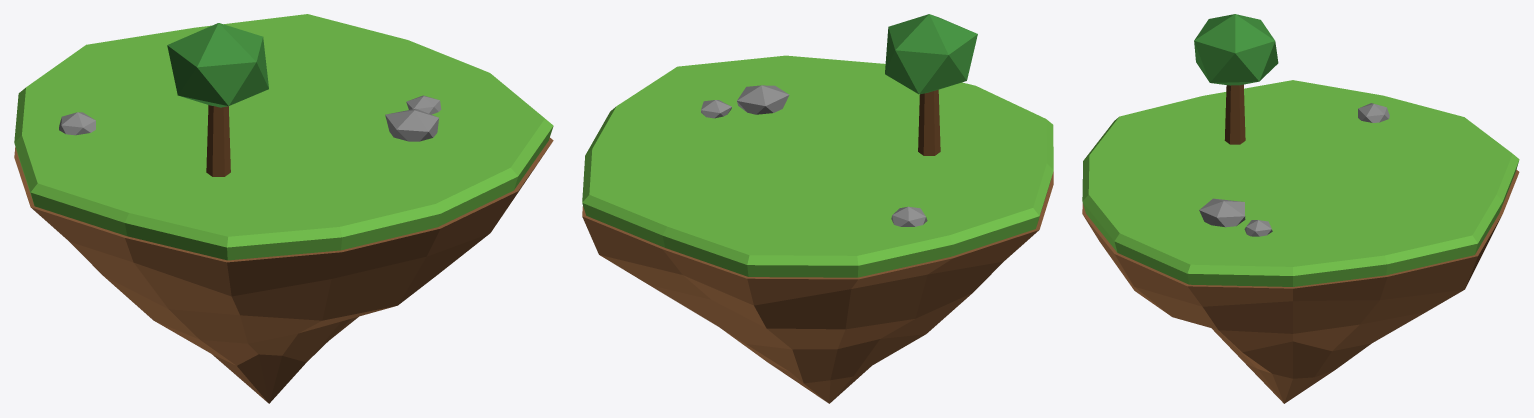
Rendered from StarterIsland.fbx.
3 views of the same model, side by side, from view 1: azimuth 30°, elevation 25°; view 2: azimuth 150°, elevation 25°; view 3: azimuth 270°, elevation 25° (orthographic). The views are drawn at different scales.
Parts seen in each view (by area): view 1: GrassTop, DirtBody, TreeLeaves, TreeTrunk, RockA, RockC, RockB; view 2: GrassTop, DirtBody, TreeLeaves, TreeTrunk, RockA, RockC, RockB; view 3: GrassTop, DirtBody, TreeLeaves, TreeTrunk, RockA, RockC.
Boxes of the visible parts, bbox=[...] form: GrassTop: bbox=[14, 14, 553, 260]; DirtBody: bbox=[14, 137, 553, 403]; TreeLeaves: bbox=[167, 23, 268, 107]; TreeTrunk: bbox=[206, 105, 230, 176]; RockA: bbox=[385, 108, 438, 141]; RockC: bbox=[59, 112, 95, 135]; RockB: bbox=[406, 95, 441, 114]; GrassTop: bbox=[582, 55, 1053, 277]; DirtBody: bbox=[582, 171, 1053, 403]; TreeLeaves: bbox=[885, 14, 977, 94]; TreeTrunk: bbox=[918, 89, 940, 155]; RockA: bbox=[737, 85, 789, 114]; RockC: bbox=[891, 206, 927, 226]; RockB: bbox=[701, 100, 731, 118]; GrassTop: bbox=[1082, 80, 1519, 286]; DirtBody: bbox=[1082, 169, 1519, 403]; TreeLeaves: bbox=[1194, 14, 1278, 85]; TreeTrunk: bbox=[1224, 84, 1245, 144]; RockA: bbox=[1199, 198, 1245, 227]; RockC: bbox=[1358, 103, 1389, 122].
Bounding box in the file's own units: 39.46 × 34.1 × 37.83.
